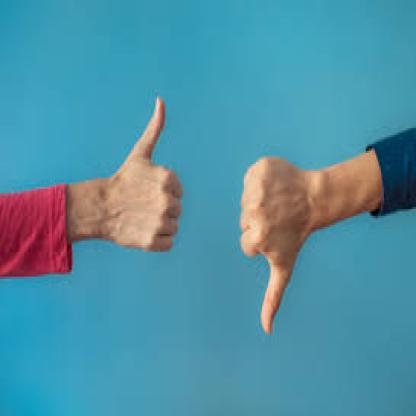Thumbs Down: (222, 151, 308, 336)
Thumbs up: (100, 100, 188, 238)
